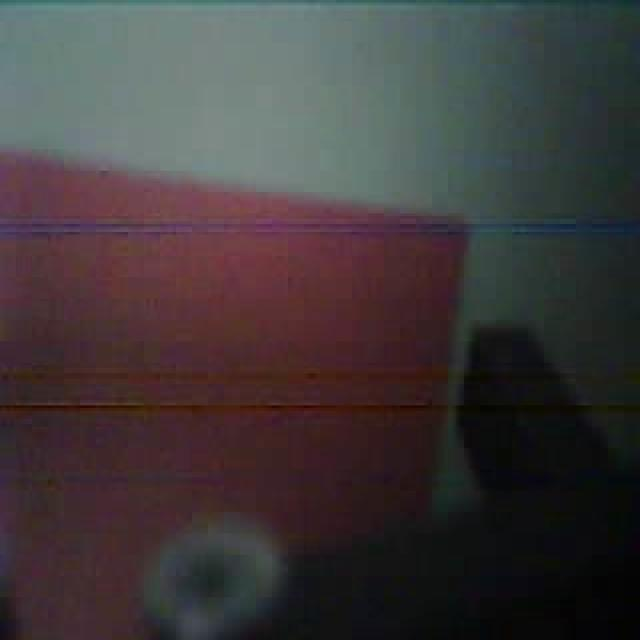red_box: (0, 152, 460, 640)
